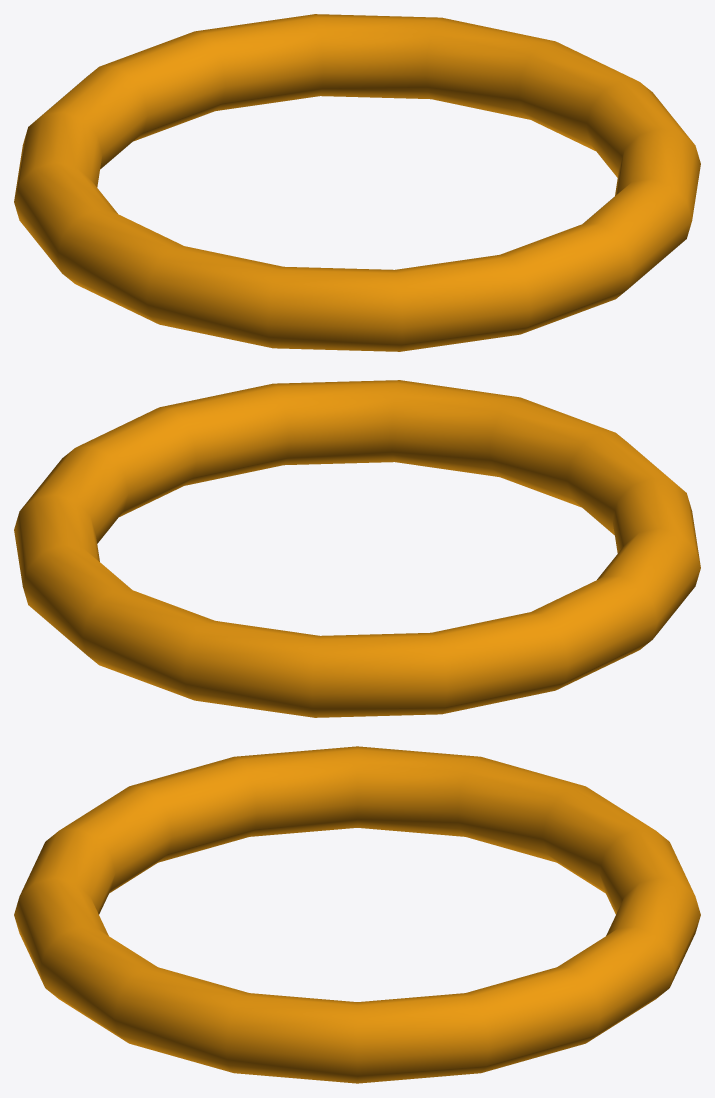
File: GMP_halo_01 (1).fbx
The picture shows the model from 3 angles, top to bottom: view 1: azimuth 30°, elevation 25°; view 2: azimuth 150°, elevation 25°; view 3: azimuth 270°, elevation 25°; orthographic projection.
Parts seen in each view (by area): view 1: Torus; view 2: Torus; view 3: Torus.
Part boxes in pixels (box(x1,y1,x2,y2)): Torus: box(14, 14, 700, 351); Torus: box(14, 380, 700, 717); Torus: box(14, 746, 700, 1083).
Size of the model in its own units: 113 by 13.49 by 113.
